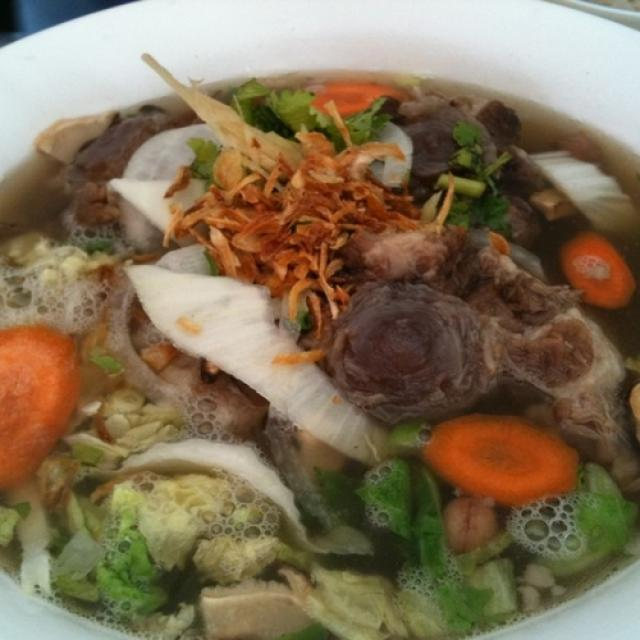汤锅炖物: (21, 37, 620, 623)
